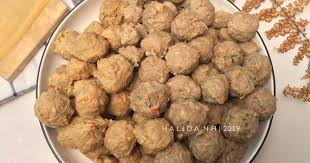bakso: (63, 12, 271, 158)
